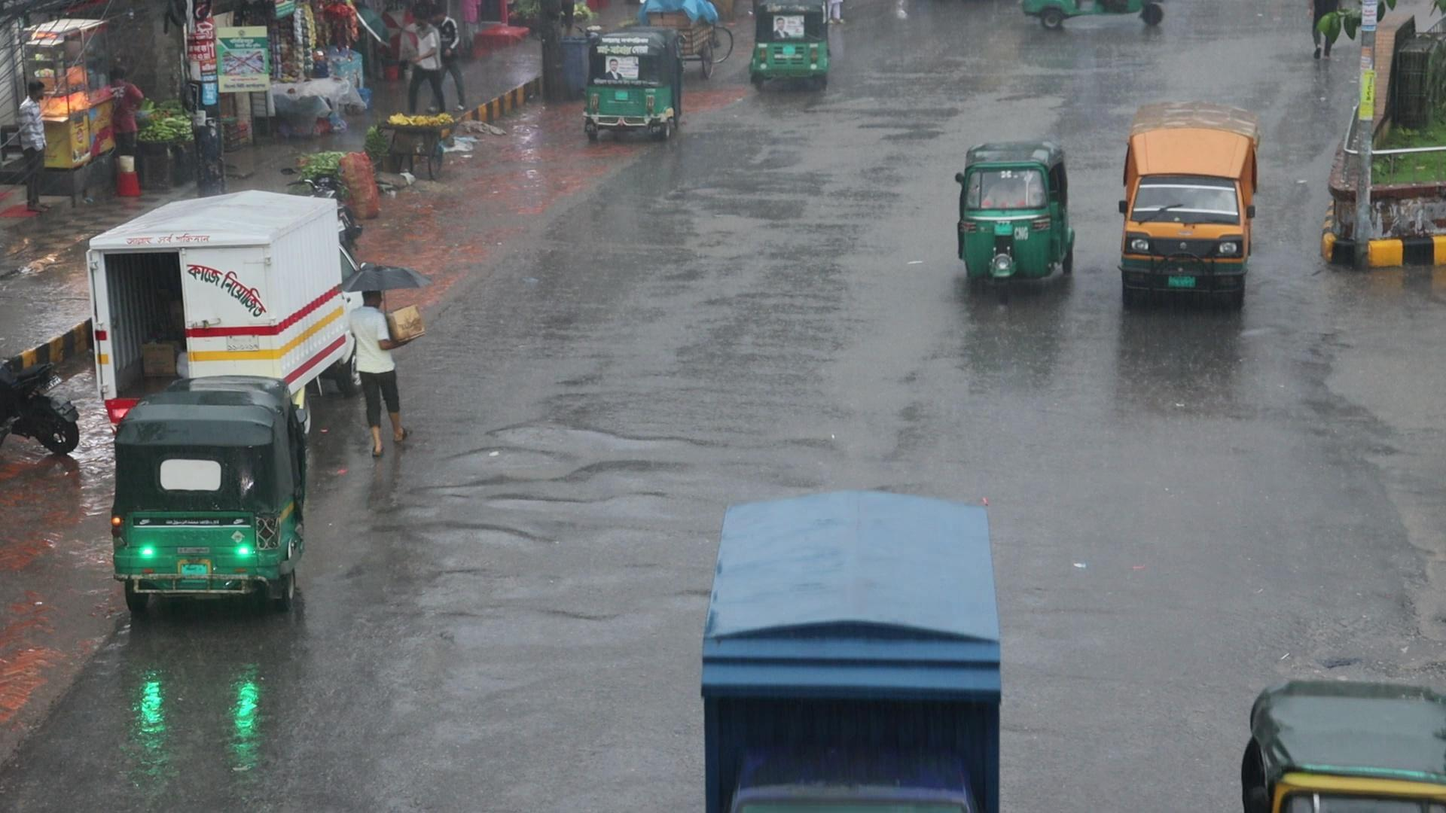Truck: (697, 486, 1007, 813), (1117, 98, 1260, 306)
